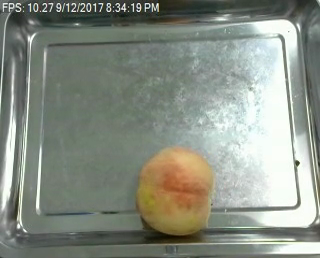Peach: (135, 144, 214, 237)
